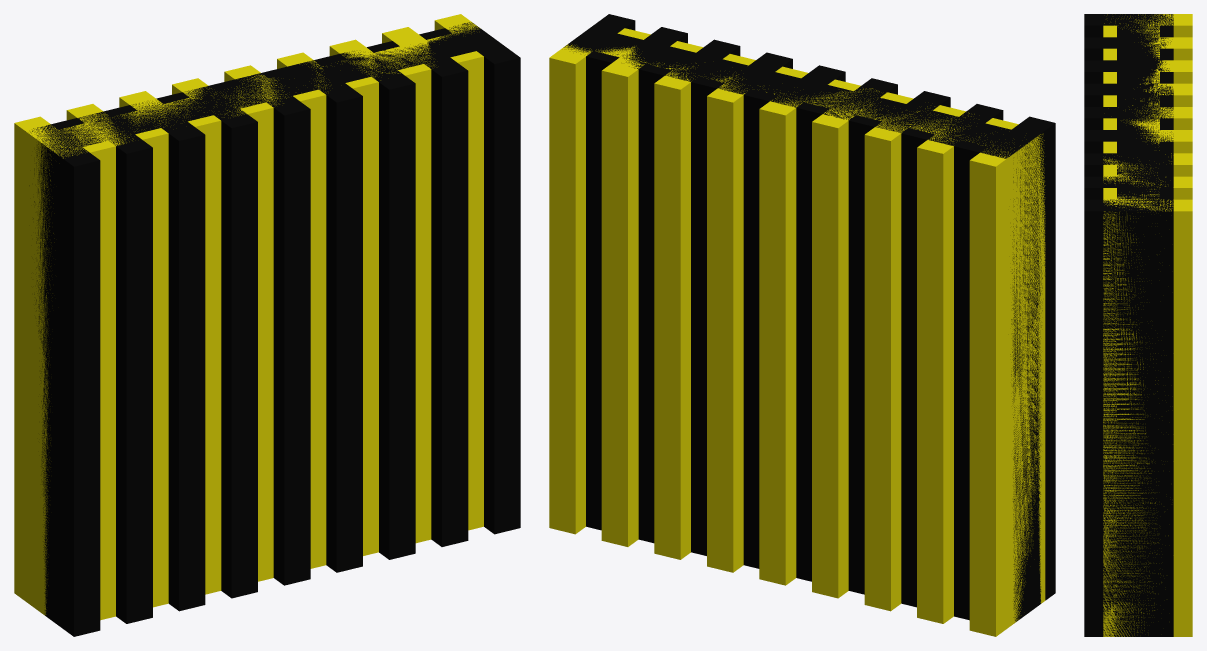
The model's file is barrier.fbx.
3 views of the same model, side by side, from view 1: azimuth 30°, elevation 25°; view 2: azimuth 150°, elevation 25°; view 3: azimuth 270°, elevation 25° (orthographic). The views are drawn at different scales.
Visible parts, largest first — view 1: Cube, Cube.001; view 2: Cube.001, Cube; view 3: Cube, Cube.001.
Boxes of the visible parts, box(x1,y1,x2,y2) form: Cube: box(29, 22, 520, 636); Cube.001: box(14, 14, 483, 620); Cube.001: box(549, 28, 1045, 636); Cube: box(563, 14, 1055, 621); Cube: box(1084, 14, 1173, 636); Cube.001: box(1103, 14, 1192, 636).
Size of the model in its own units: 1646 by 1656 by 382.
